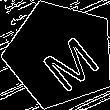M_NW: (25, 20, 95, 88)
